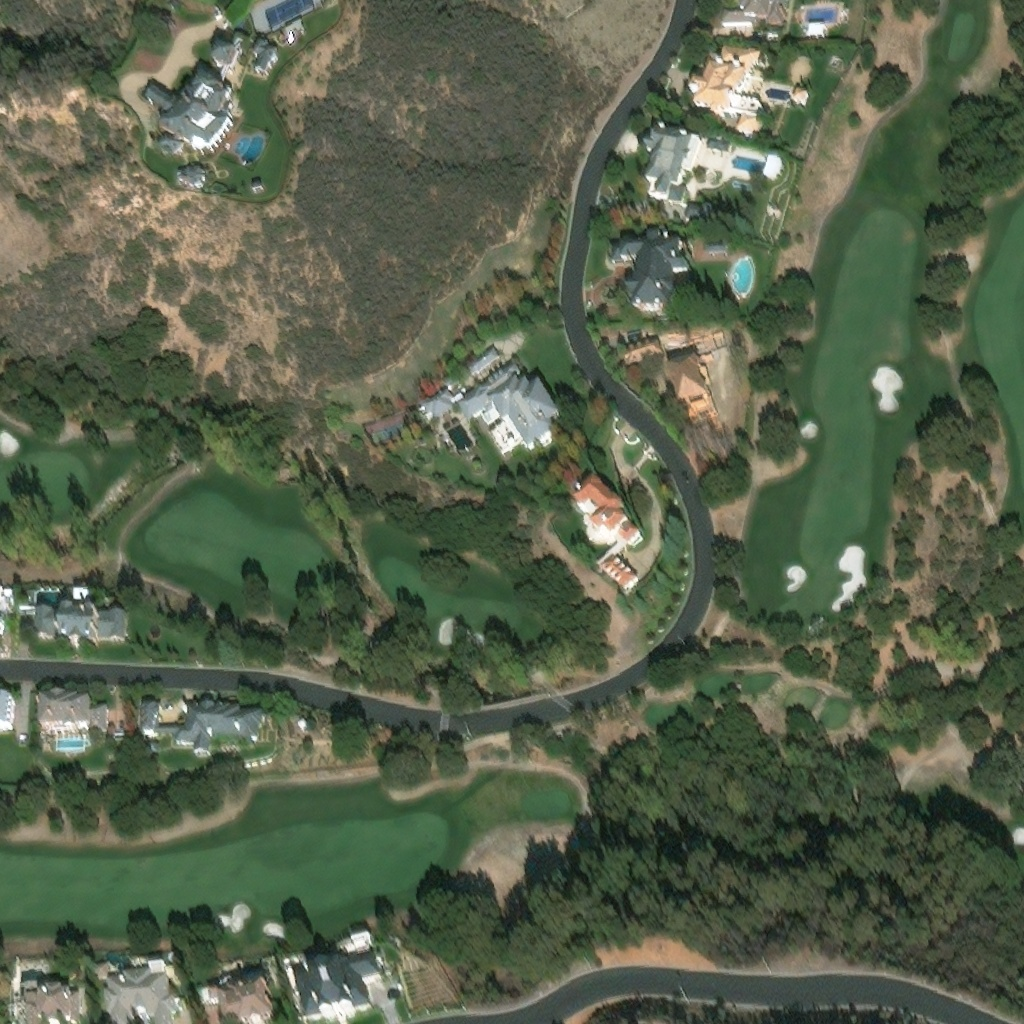0 no-damage: (419, 362, 564, 456), (571, 478, 644, 596), (687, 42, 771, 142), (607, 226, 692, 318), (149, 68, 231, 163), (138, 696, 265, 755), (641, 122, 707, 208), (286, 955, 380, 1015), (94, 962, 179, 1023), (630, 362, 715, 420), (31, 598, 123, 639), (196, 981, 276, 1022), (38, 691, 107, 732), (613, 331, 665, 374), (25, 989, 82, 1023), (718, 0, 786, 27), (248, 35, 277, 73), (465, 346, 500, 373), (180, 173, 210, 200), (209, 36, 237, 64), (686, 209, 716, 235), (439, 360, 466, 384), (764, 163, 786, 189), (282, 20, 306, 42), (708, 140, 734, 159), (0, 693, 13, 730), (0, 582, 10, 627), (802, 27, 828, 42), (766, 208, 783, 226), (794, 96, 811, 113), (70, 581, 87, 597), (93, 587, 113, 600), (142, 739, 158, 753), (252, 185, 266, 201), (295, 715, 308, 729), (710, 253, 728, 261)
4 un-classified: (912, 653, 932, 669)
